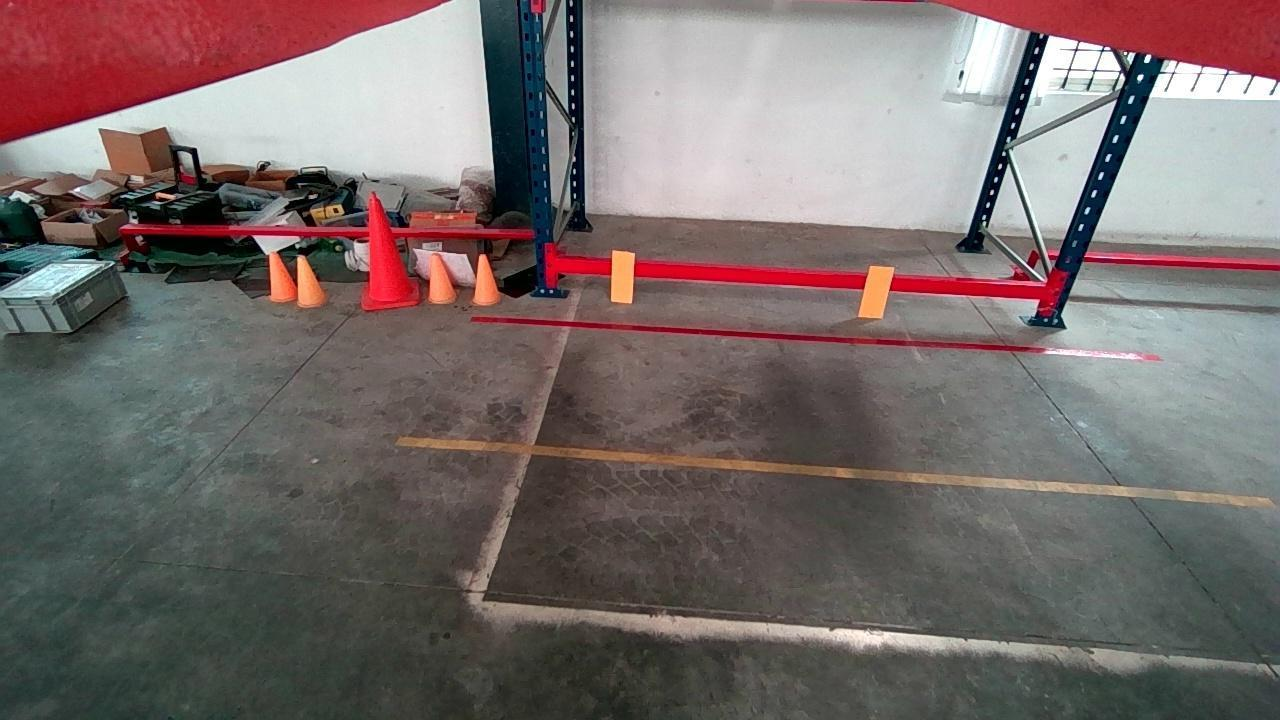h_rack: (553, 255, 1052, 298)
orange_strip: (857, 265, 893, 317), (611, 249, 633, 302)
red_line: (474, 312, 1164, 361)
yellow_line: (395, 436, 1279, 508)
